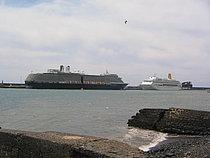Ship: (25, 78, 131, 96), (141, 82, 189, 94)
